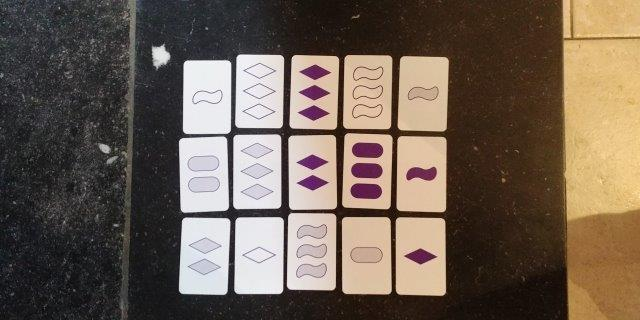1ED: (237, 219, 280, 291)
1EW: (185, 63, 227, 131)
1FD: (398, 219, 442, 292)
1FW: (400, 138, 443, 208)
1HP: (345, 219, 387, 292)
1HW: (403, 58, 443, 128)
2FD: (291, 137, 333, 206)
2HD: (183, 220, 223, 291)
2HP: (183, 139, 225, 208)
3ED: (238, 57, 280, 126)
3EW: (346, 56, 388, 127)
3FD: (293, 56, 333, 126)
3FP: (346, 135, 388, 205)
3HD: (237, 136, 278, 206)
3HW: (289, 215, 332, 287)
